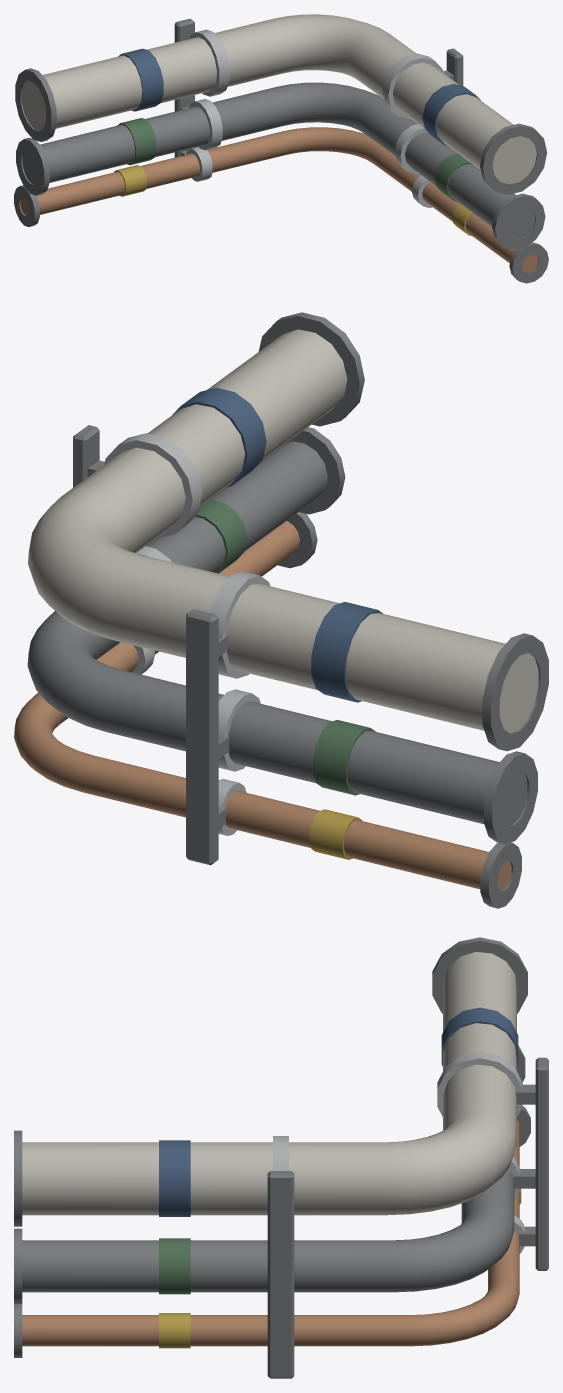
Rendered from astro_pipe_run_corner.fbx.
3 renders of one model, top to bottom at view 1: azimuth 30°, elevation 25°; view 2: azimuth 150°, elevation 25°; view 3: azimuth 270°, elevation 25°, orthographic. The views are drawn at different scales.
Parts seen in each view (by area): view 1: PipeRunCorner_Body; view 2: PipeRunCorner_Body; view 3: PipeRunCorner_Body.
Boxes of the visible parts, bbox=[...] form: PipeRunCorner_Body: bbox=[14, 14, 548, 283]; PipeRunCorner_Body: bbox=[14, 312, 548, 908]; PipeRunCorner_Body: bbox=[14, 937, 548, 1378].
Bounding box in the file's own units: 202 × 90 × 202.
